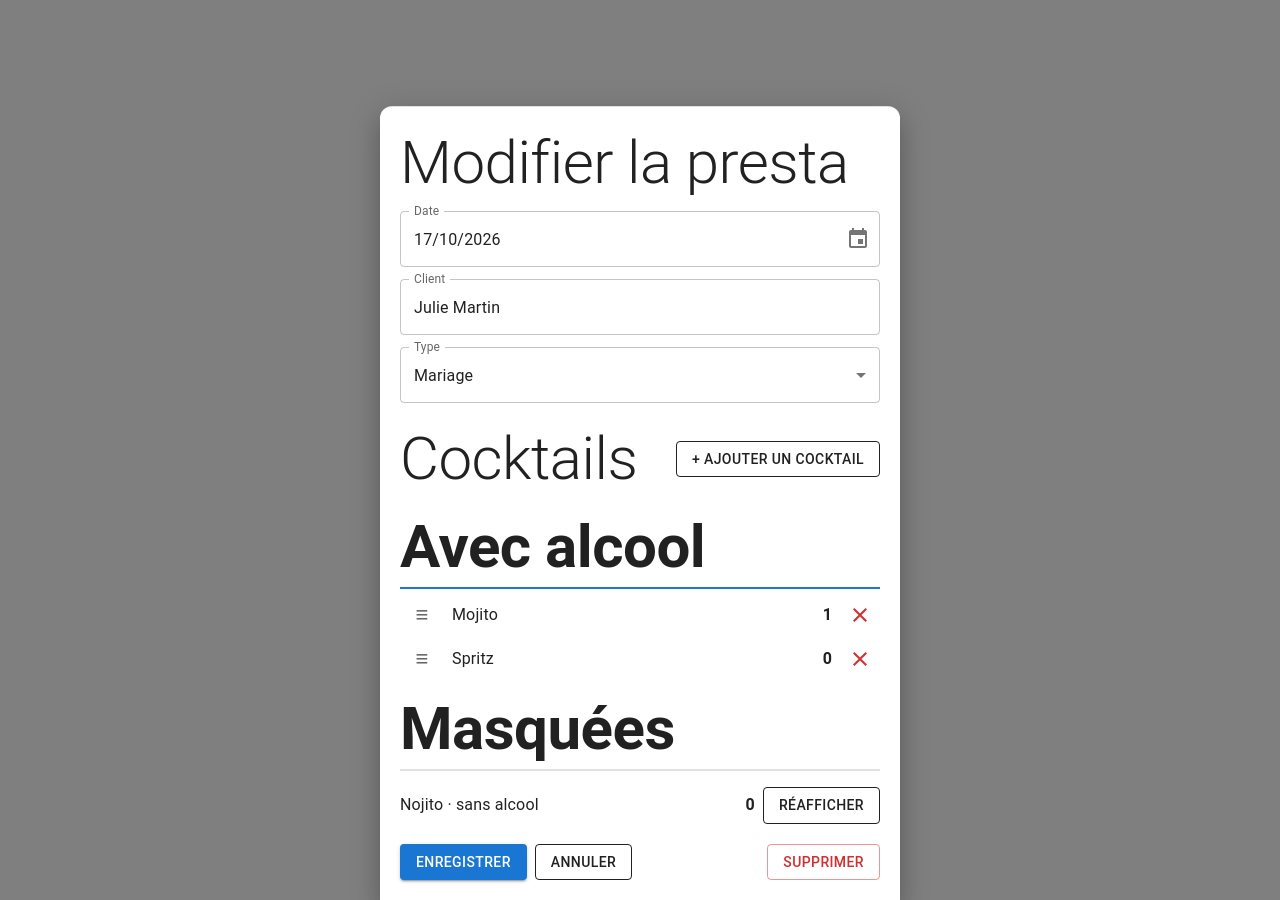
Test: EcranModifierPresta › accorde le dialogue de retrait pour un seul verre servi
The width and height of the screenshot is (1280, 900).
Click the button named "Retirer" at (860, 615), box [840, 595, 880, 635]
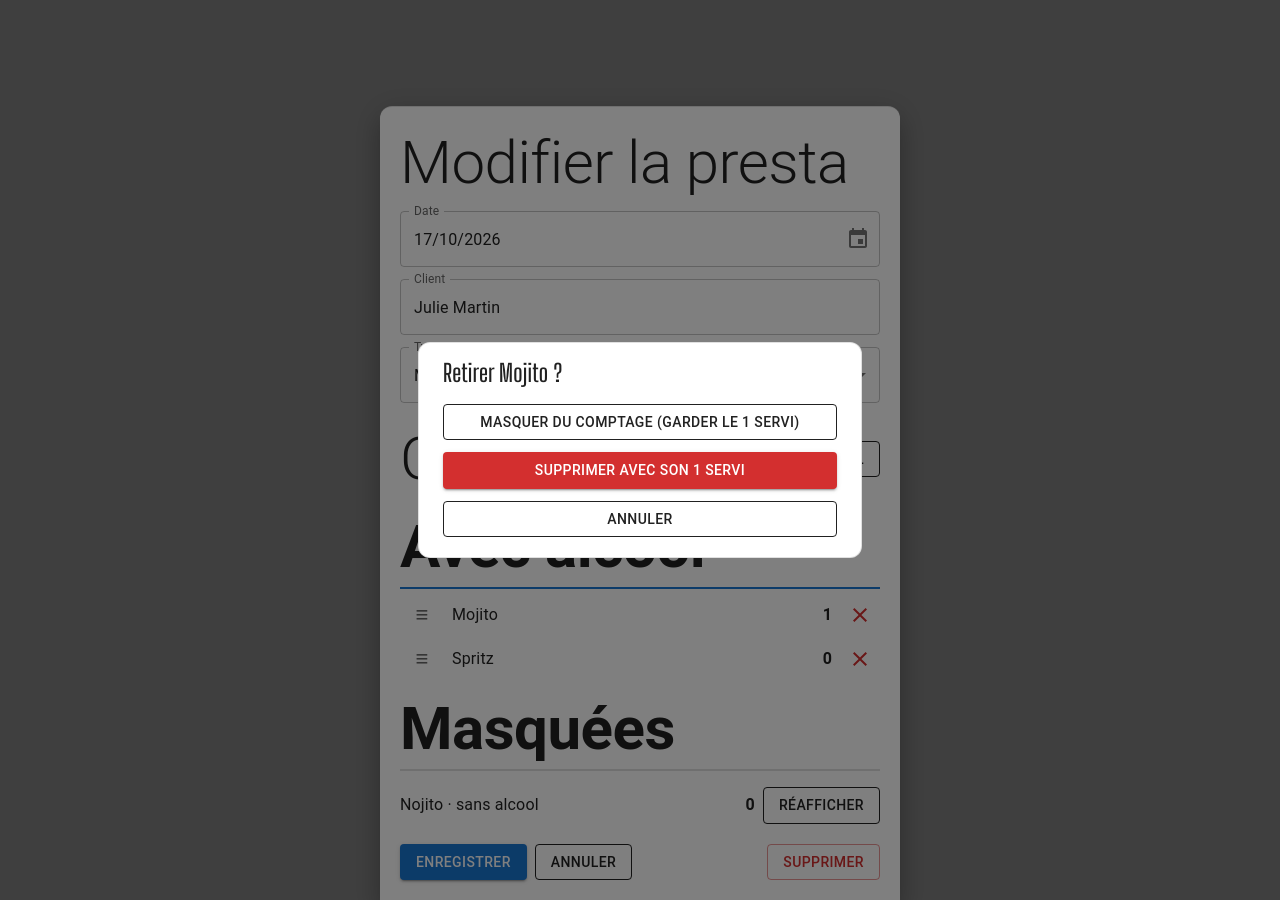
Result: the button "Masquer du comptage (garder le 1 servi)" is shown at [443, 404, 837, 440]
Result: the button "Supprimer avec son 1 servi" is shown at [443, 452, 837, 489]
